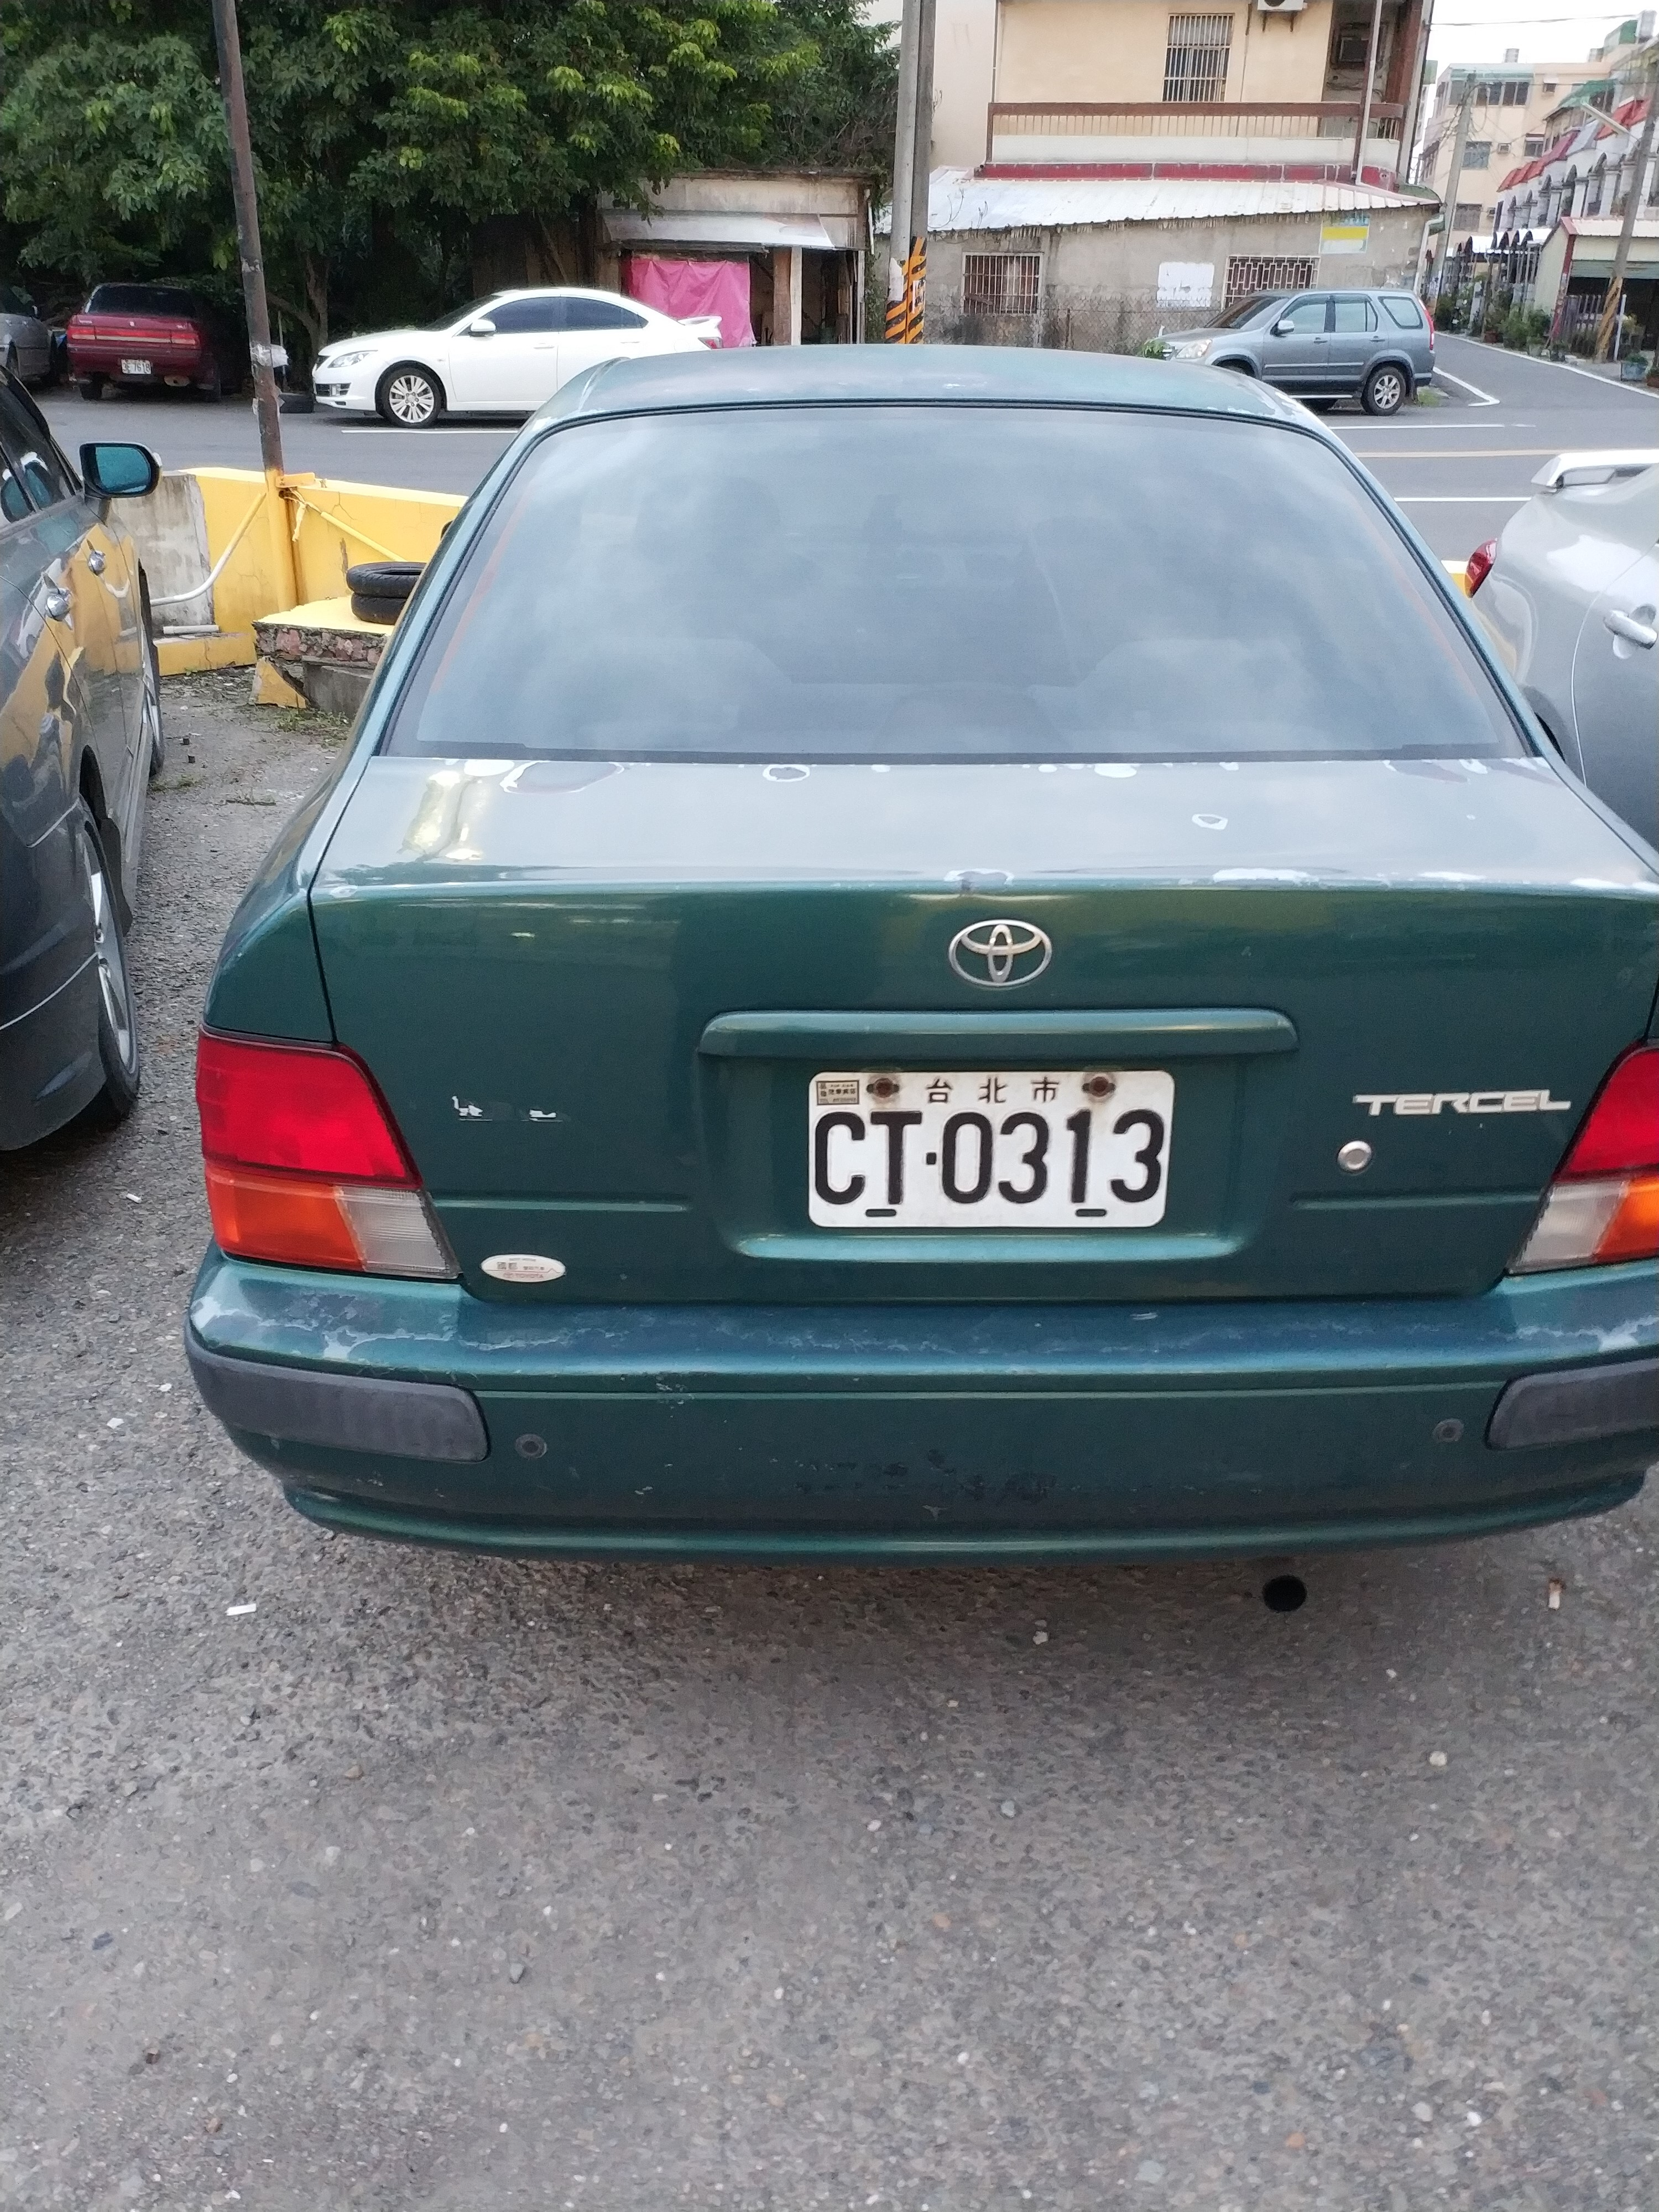car: (174, 355, 1659, 1568), (301, 277, 723, 421), (1155, 280, 1457, 404), (61, 280, 213, 383)
car_card: (810, 1061, 1183, 1230)
